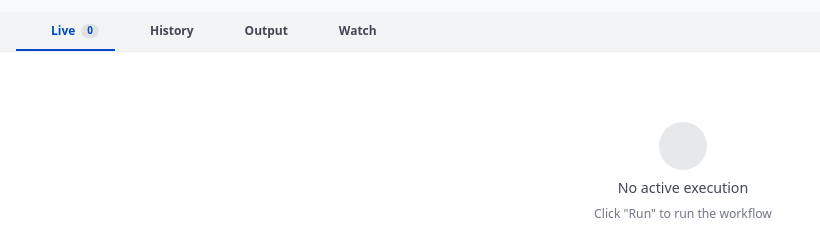
Test: ExecutionPanel › outputTab_emptyDatabus_noLive_showsRunWorkflowHint
The image size is (820, 235).
What coordinates should you click on to do the following:
click the button "Output"
I would click on:
 (257, 32)
Its box is [210, 13, 304, 51].
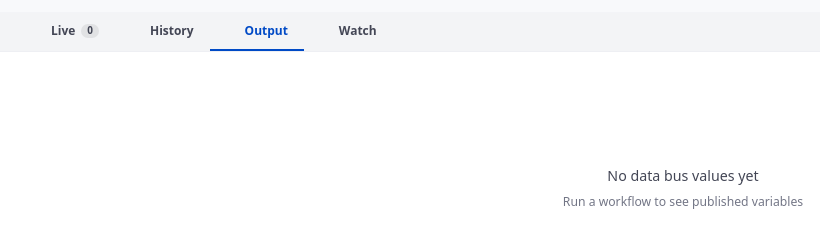
Expected: the text "No data bus values yet" is shown, [607, 166, 759, 186]
